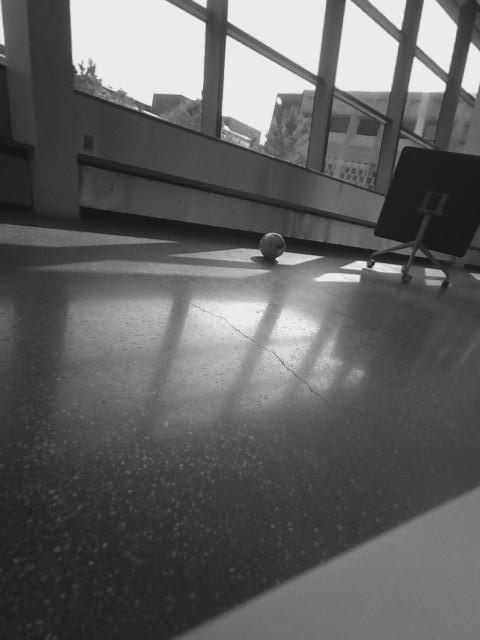ball: (255, 231, 290, 260)
